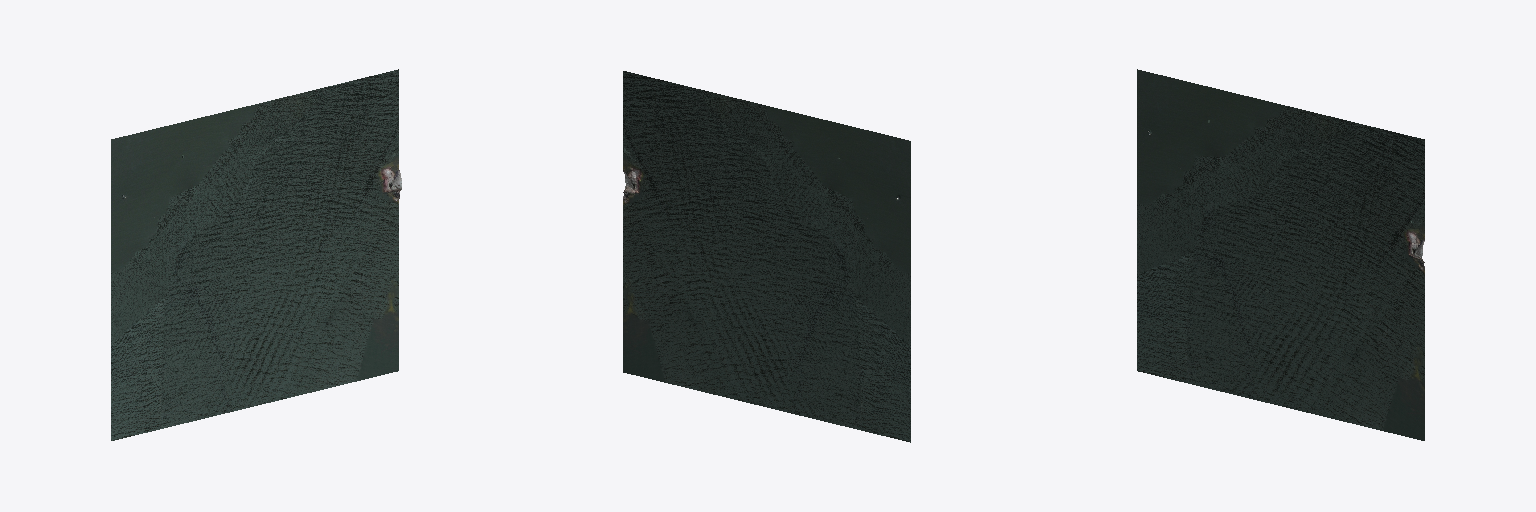
3 renders of one model, left to right at view 1: azimuth 30°, elevation 25°; view 2: azimuth 150°, elevation 25°; view 3: azimuth 330°, elevation 25°, orthographic.
Bounding box in the file's own units: 252 × 252 × 5.38.
2 materials, 1 textured.